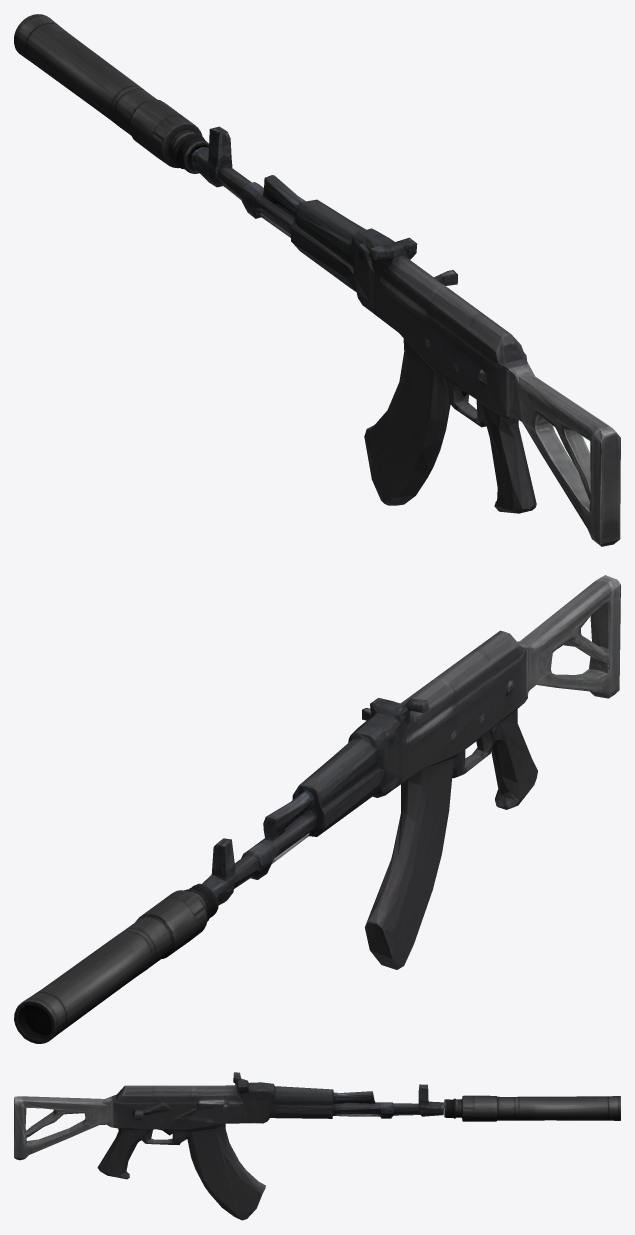
The model's file is black_aks74u_suppressed.glb.
3 renders of one model, top to bottom at view 1: azimuth 30°, elevation 25°; view 2: azimuth 150°, elevation 25°; view 3: azimuth 270°, elevation 25°, orthographic. The views are drawn at different scales.
Visible parts, largest first — view 1: black_aks74u_suppressed; view 2: black_aks74u_suppressed; view 3: black_aks74u_suppressed.
Part boxes in pixels (bbox=[...]): black_aks74u_suppressed: bbox=[14, 14, 620, 546]; black_aks74u_suppressed: bbox=[14, 575, 620, 1043]; black_aks74u_suppressed: bbox=[14, 1072, 620, 1220].
Size of the model in its own units: 0.0622 by 0.2154 by 0.8416.
2 materials, 2 textured.
